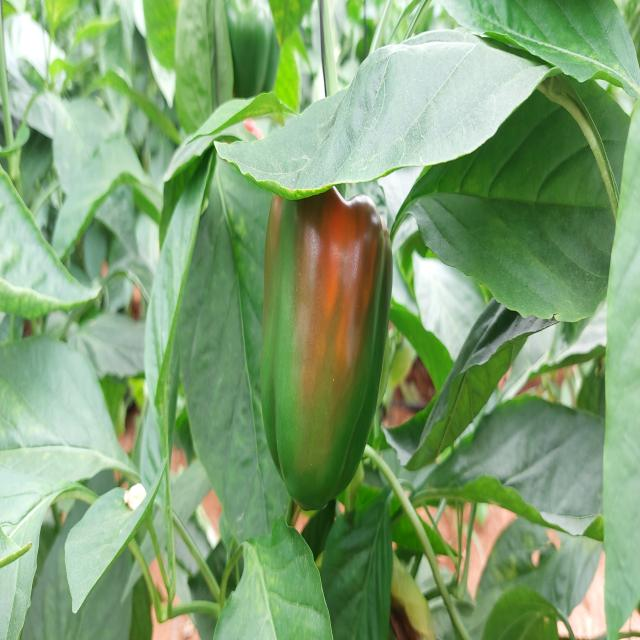BrownishRed--Can-be-Harvested: (266, 175, 394, 504)
